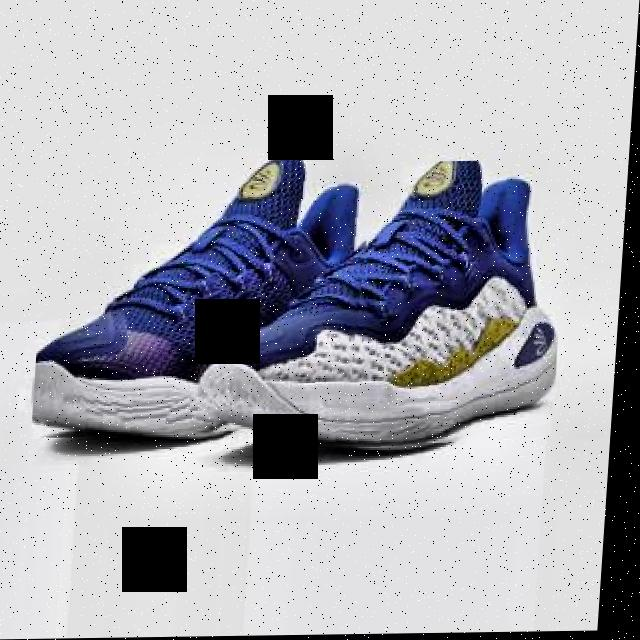shoe: (213, 161, 572, 457), (37, 157, 380, 439)
